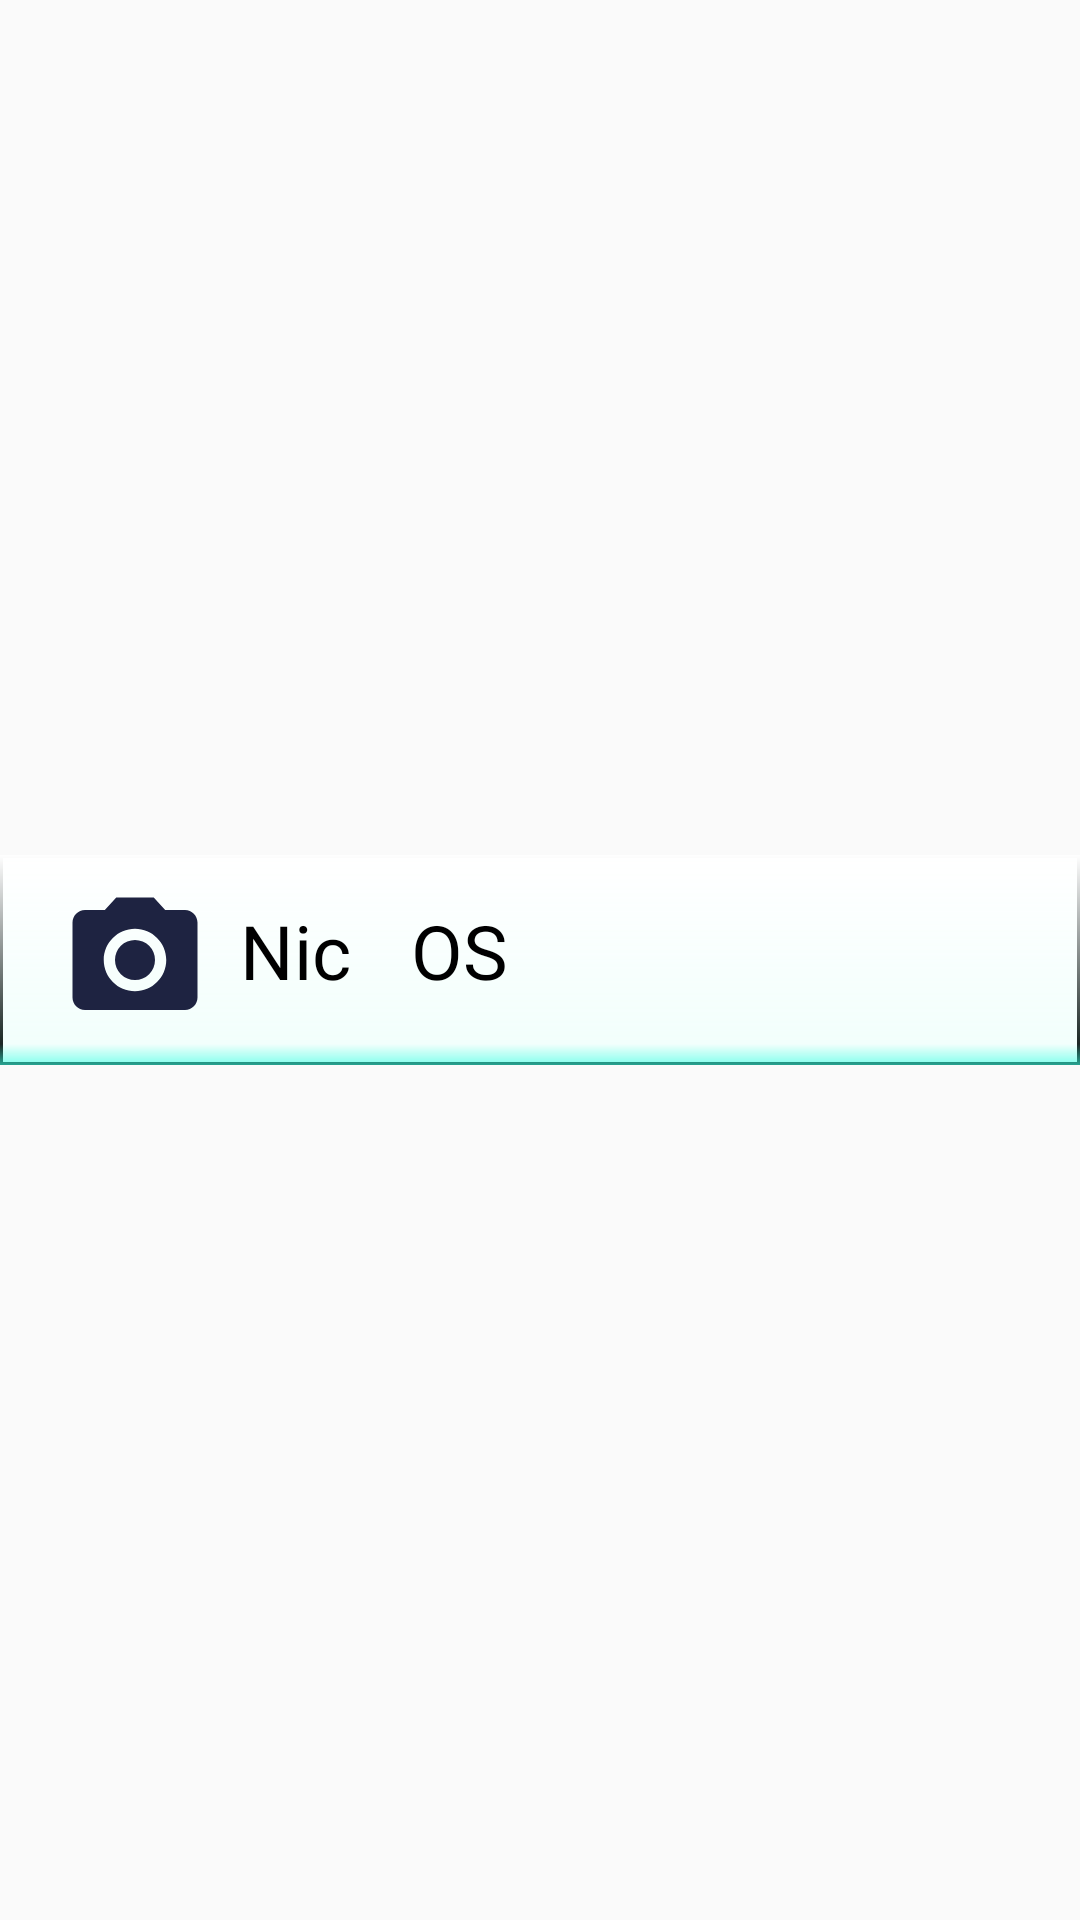

Locate icon controls on the screen. Image size 1080×1920, boxes as rect(x1, y1, x2, y2).
photo camera: rect(72, 897, 198, 1010)
